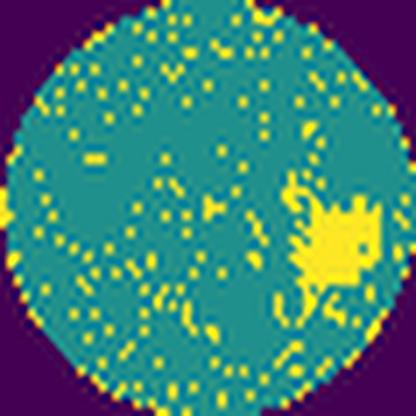Loc: (282, 171, 382, 329)
